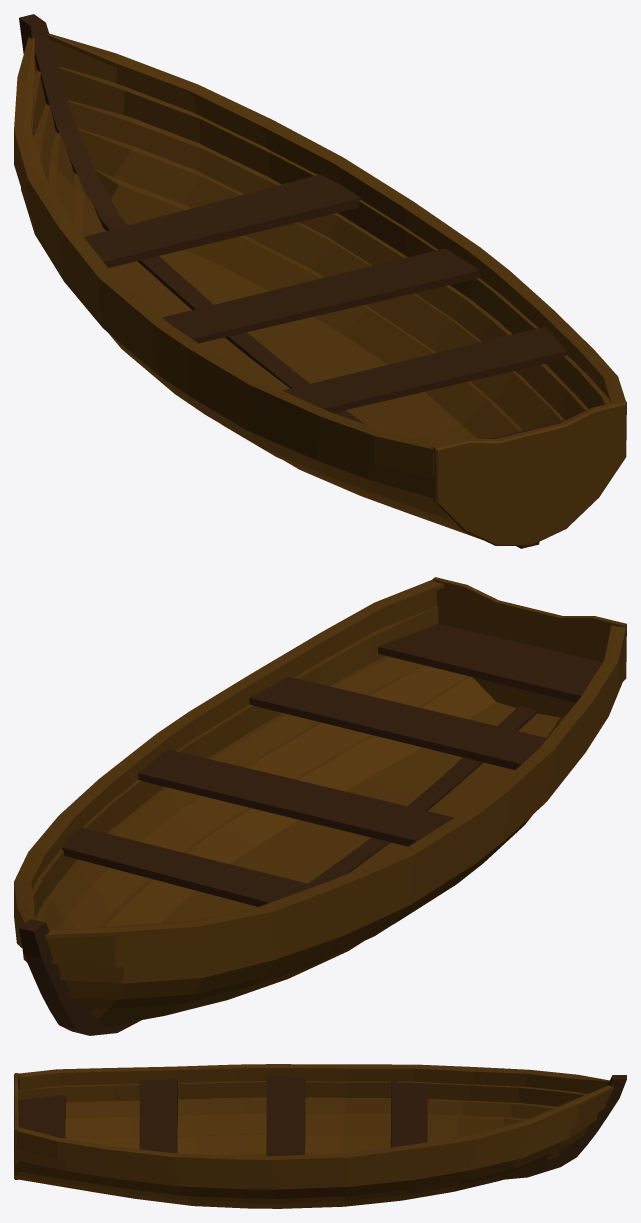
Rendered from boat.FBX.
3 renders of one model, top to bottom at view 1: azimuth 30°, elevation 25°; view 2: azimuth 150°, elevation 25°; view 3: azimuth 270°, elevation 25°, orthographic. The views are drawn at different scales.
Visible parts, largest first — view 1: Wooden_Boat_01_mesh; view 2: Wooden_Boat_01_mesh; view 3: Wooden_Boat_01_mesh.
Boxes of the visible parts, x1,y1,x2,y2 form: Wooden_Boat_01_mesh: [14, 14, 626, 548]; Wooden_Boat_01_mesh: [14, 577, 626, 1035]; Wooden_Boat_01_mesh: [14, 1064, 626, 1208].
Bounding box in the file's own units: 143 × 78.09 × 387.
